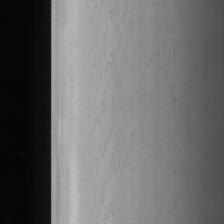silk_spot: (88, 48, 128, 219)
